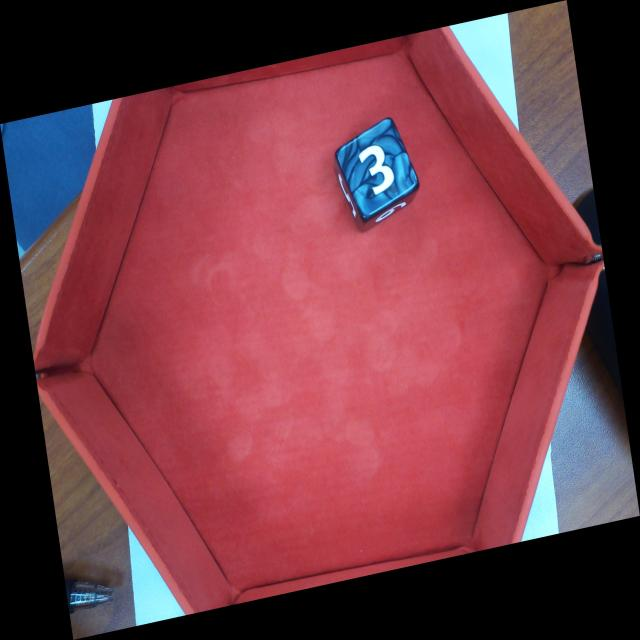dice: (337, 119, 417, 218)
